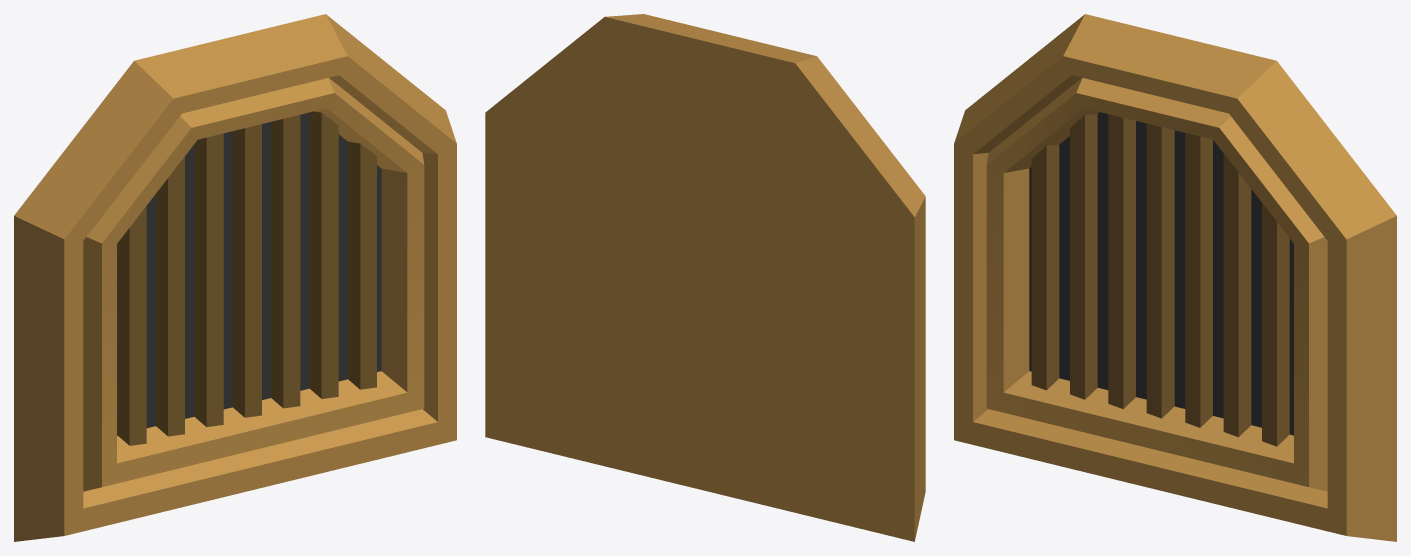
The model's file is Details_Vent_2.fbx.
3 renders of one model, left to right at view 1: azimuth 30°, elevation 25°; view 2: azimuth 150°, elevation 25°; view 3: azimuth 330°, elevation 25°, orthographic.
Visible parts, largest first — view 1: Details_Vent_2; view 2: Details_Vent_2; view 3: Details_Vent_2.
Boxes of the visible parts, box(x1,y1,x2,y2) form: Details_Vent_2: box(14, 14, 456, 541); Details_Vent_2: box(485, 14, 925, 541); Details_Vent_2: box(954, 14, 1396, 541).
Bounding box in the file's own units: 0.3099 × 0.3099 × 0.0413.
